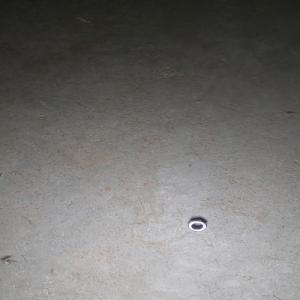Nut: (187, 219, 207, 231)
